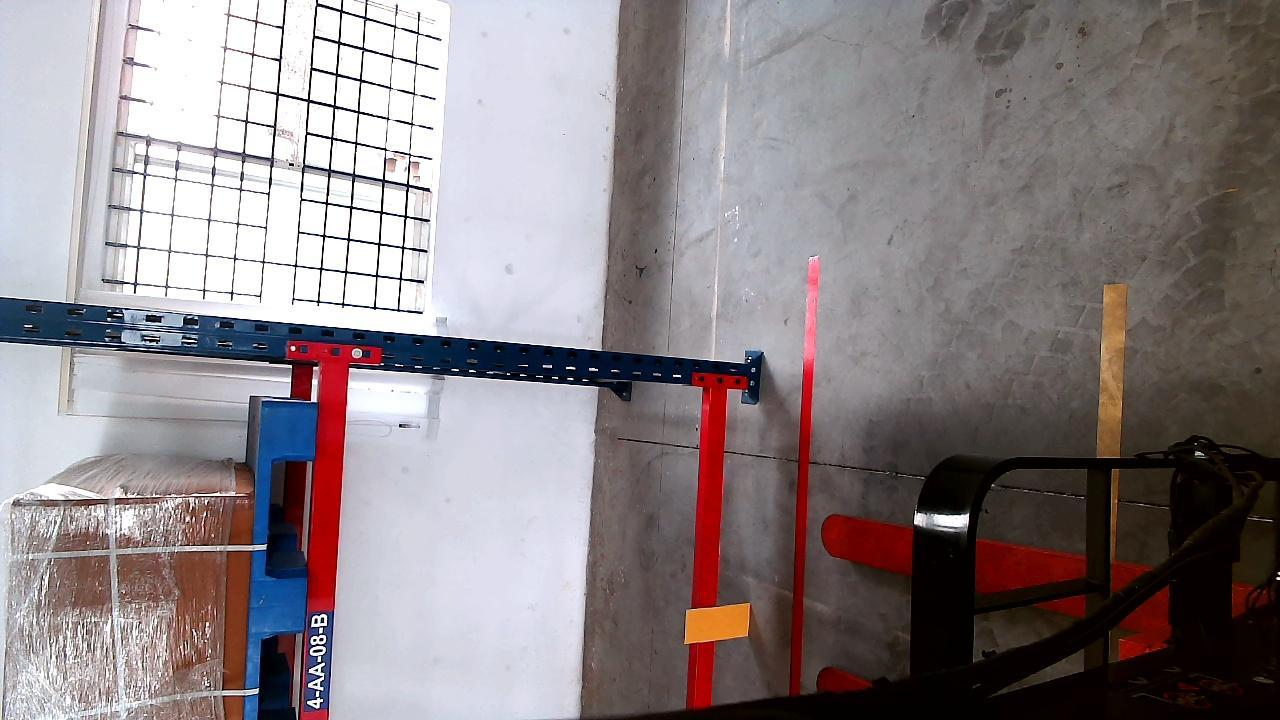red_line: (790, 257, 817, 695)
yellow_line: (1096, 286, 1127, 559)
